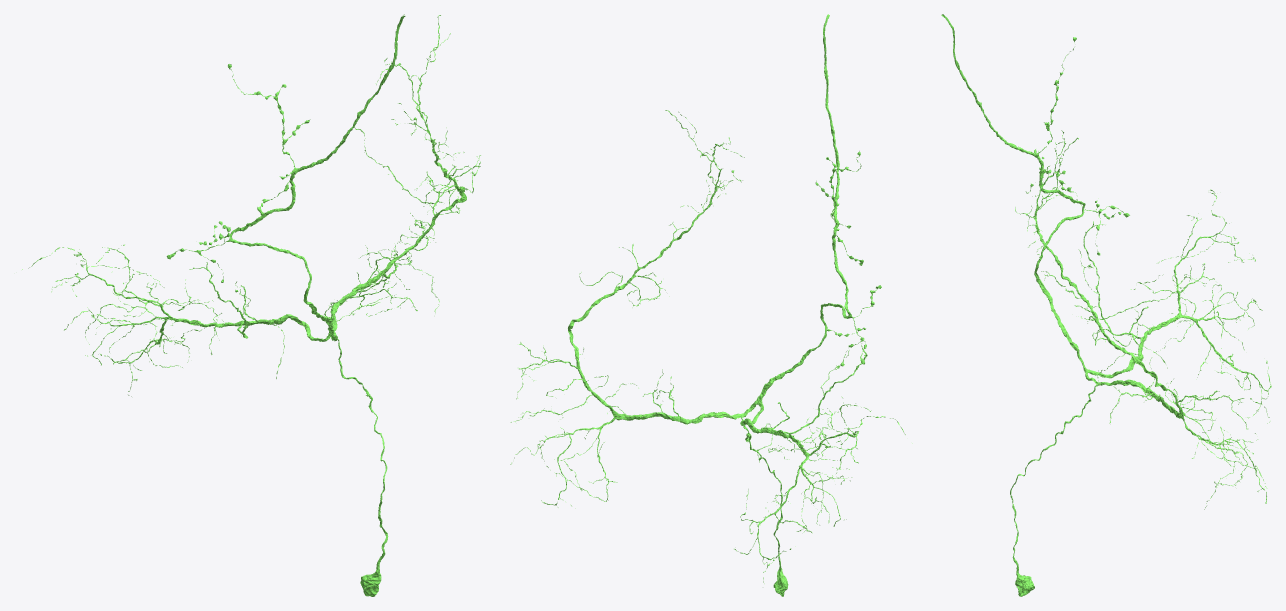
File: VFB_001061qy.glb
3 views of the same model, side by side, from view 1: azimuth 30°, elevation 25°; view 2: azimuth 150°, elevation 25°; view 3: azimuth 270°, elevation 25° (orthographic). The views are drawn at different scales.
Parts seen in each view (by area): view 1: VFB_001061qy; view 2: VFB_001061qy; view 3: VFB_001061qy.
Part boxes in pixels (box(x1,y1,x2,y2)): VFB_001061qy: box(22, 14, 480, 596); VFB_001061qy: box(510, 14, 912, 596); VFB_001061qy: box(941, 14, 1271, 596).
Size of the model in its own units: 0.1453 by 0.1931 by 0.1.
